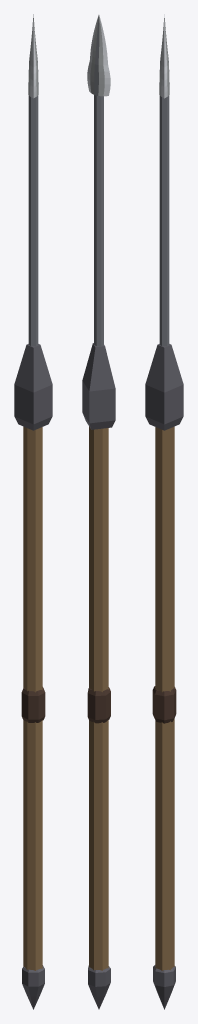
The model's file is pilum.glb.
The picture shows the model from 3 angles, left to right: view 1: azimuth 90°, elevation 25°; view 2: azimuth 150°, elevation 25°; view 3: azimuth 270°, elevation 25°; orthographic projection.
Parts seen in each view (by area): view 1: pilum; view 2: pilum; view 3: pilum.
Part boxes in pixels (left/top/right/bottom): pilum: left=14, top=14, right=52, bottom=1009; pilum: left=82, top=15, right=115, bottom=1009; pilum: left=145, top=14, right=183, bottom=1009.
Size of the model in its own units: 0.0874 by 2.5 by 0.0874.
